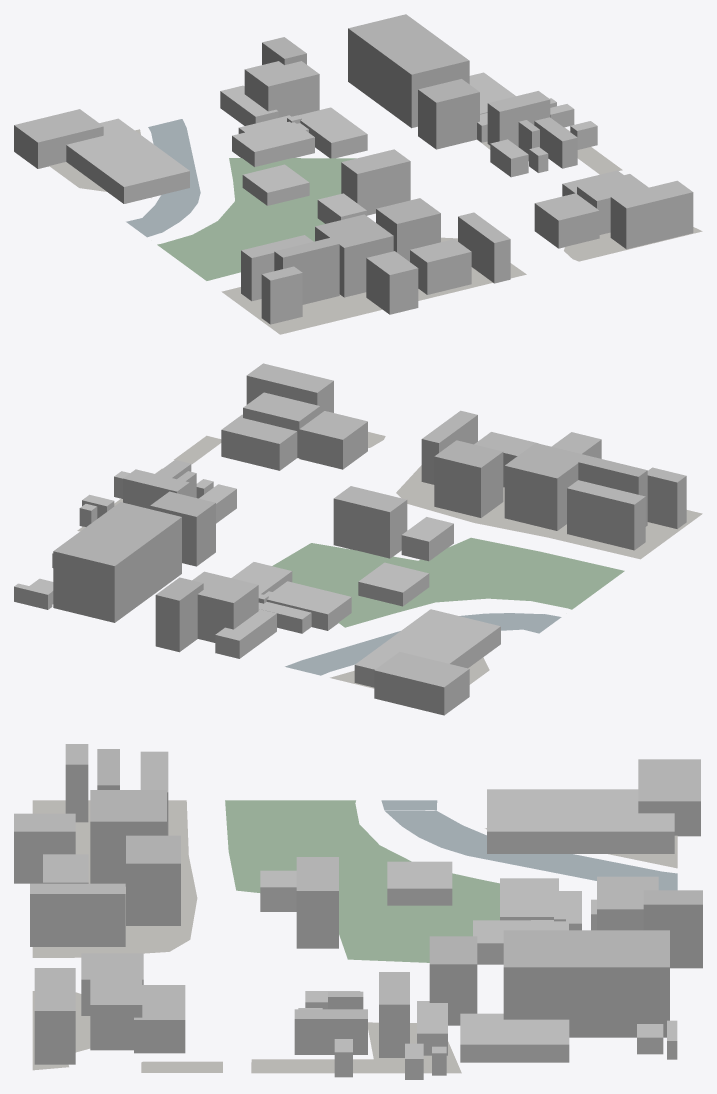
File: 108_101_mid.glb
3 renders of one model, top to bottom at view 1: azimuth 30°, elevation 25°; view 2: azimuth 150°, elevation 25°; view 3: azimuth 270°, elevation 25°, orthographic. The views are drawn at different scales.
Size of the model in its own units: 525 by 60.41 by 534.
